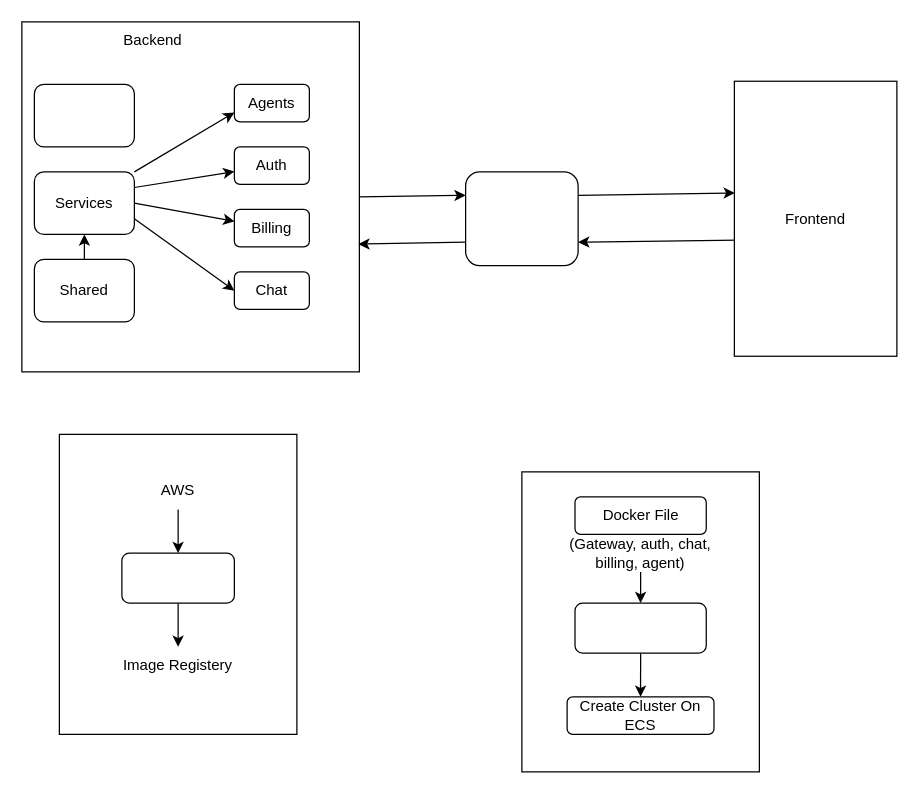
This 919x794 diagram has some shape labels left out. Each missing label, with the centre of its shape:
API: the point at 521,218
ECS ECR: the point at 177,577
Gateway: the point at 83,115
Puch on ECR: the point at 640,627
